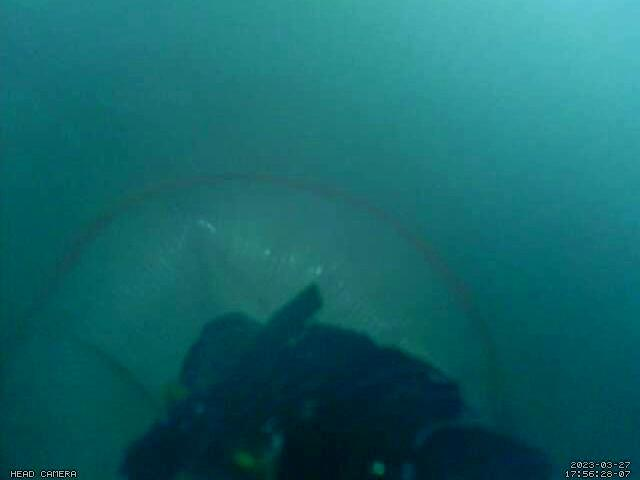head: (1, 172, 516, 440)
